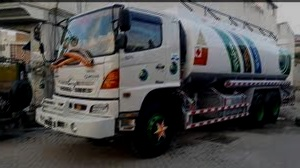truck: (37, 4, 290, 158)
